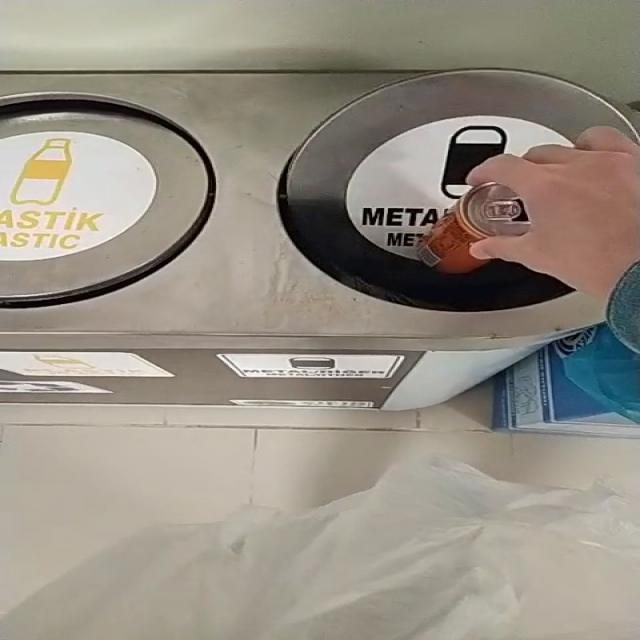bin: (1, 69, 635, 410)
metal: (419, 182, 531, 274)
